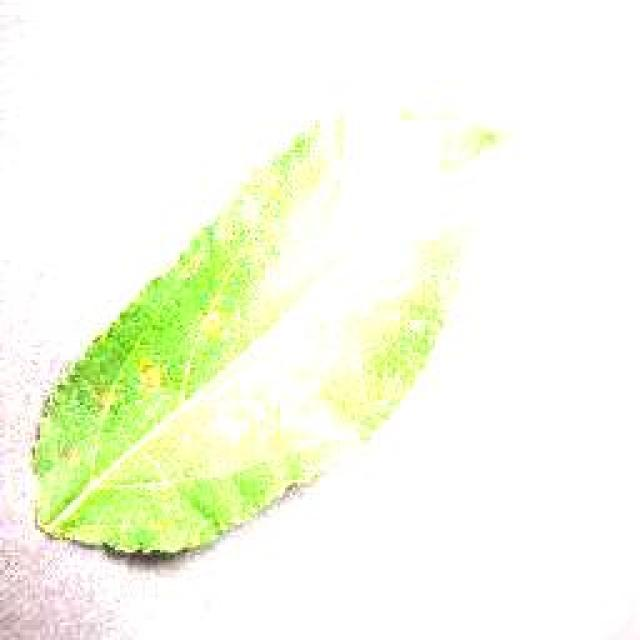apple scab disease: (25, 102, 505, 560)
